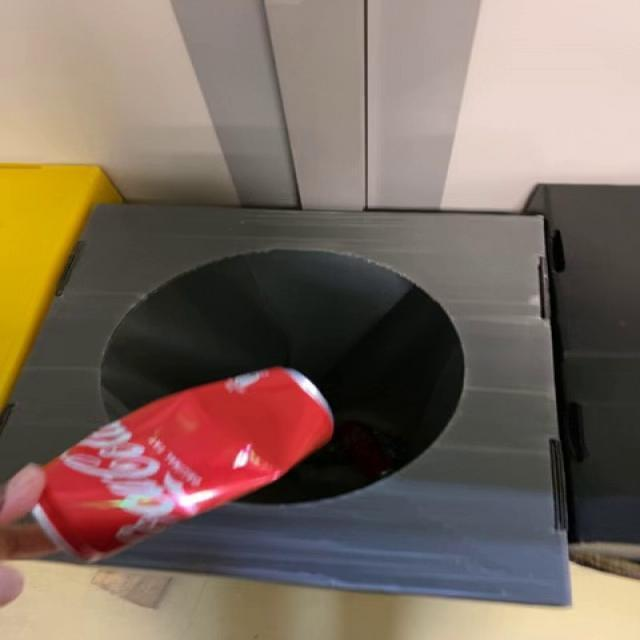Bin: (3, 206, 569, 606)
Metal: (32, 369, 333, 562)
